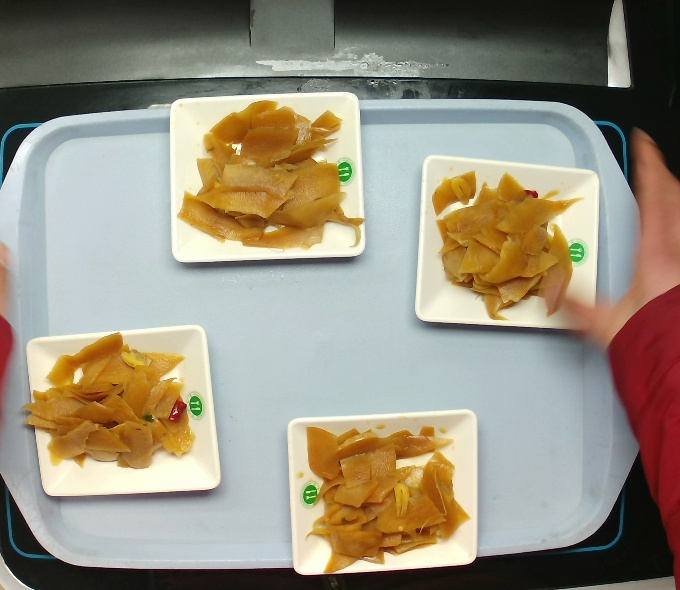wcq-JiangLuoBo: (298, 417, 470, 573), (188, 104, 346, 247), (437, 169, 582, 316), (38, 342, 189, 480)
